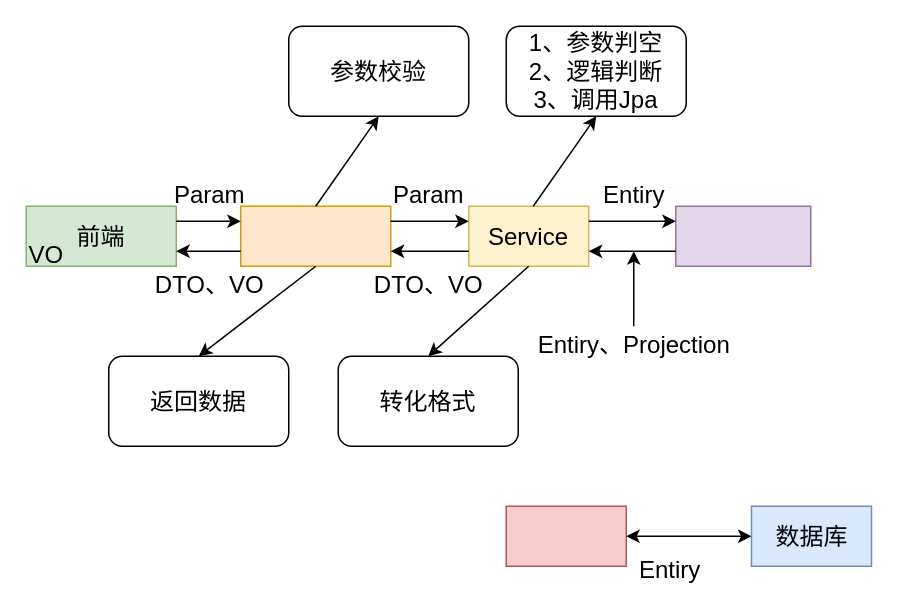
Image size: 899x611. Some labels were removed from this diagram. The centre of each missing label's shape, as x and y in pixels:
Controller: the point at 315,235
model: the point at 565,535
Repositry: the point at 742,235
